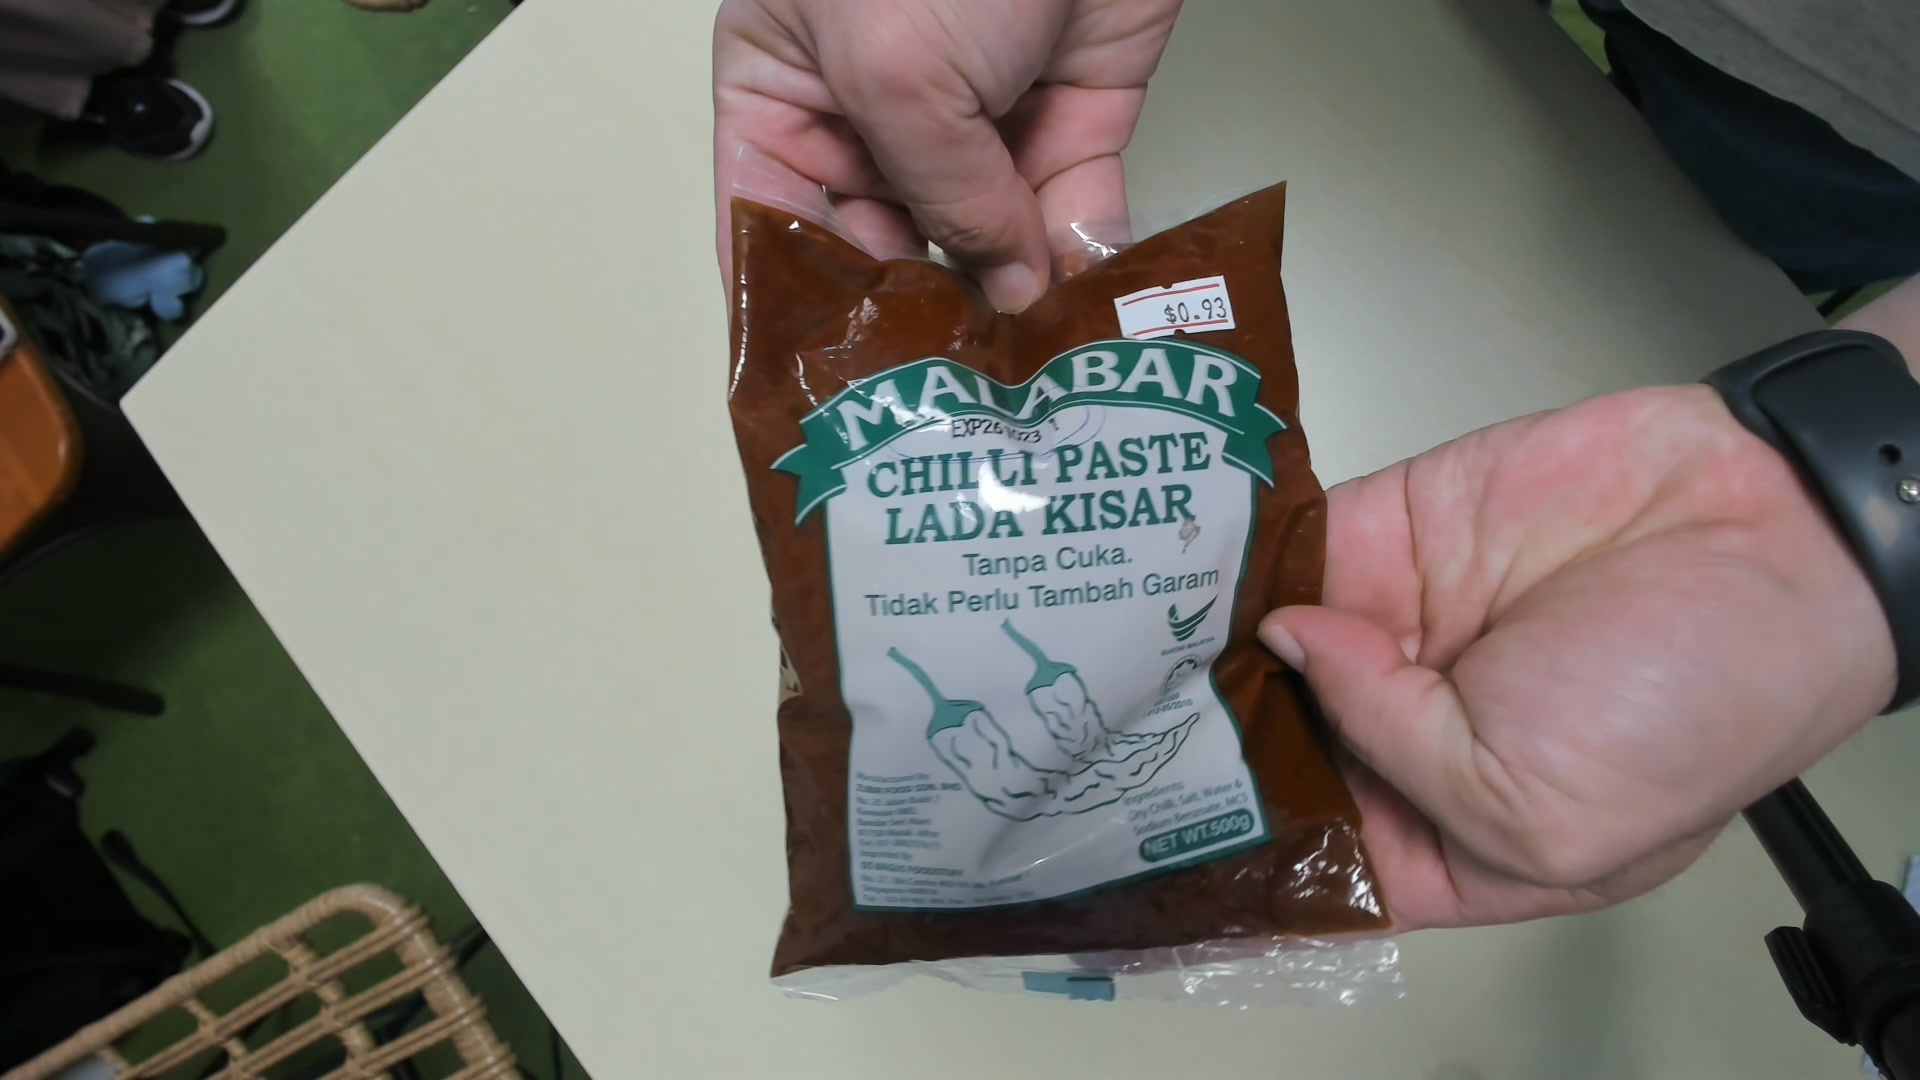OtherSauceDressingSoupbasePaste_500-599g_Halal_NonHealthy: (733, 171, 1396, 1015)
